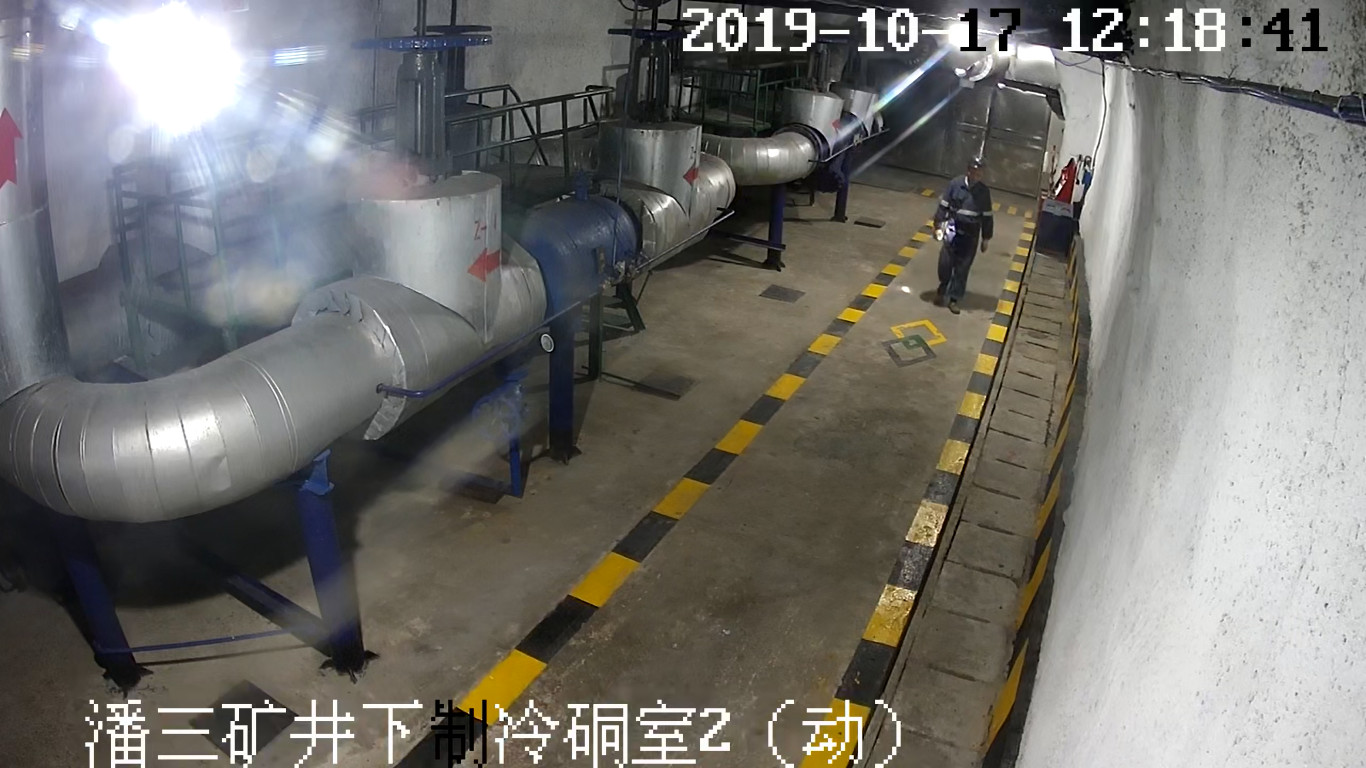helmet: (967, 154, 986, 169)
